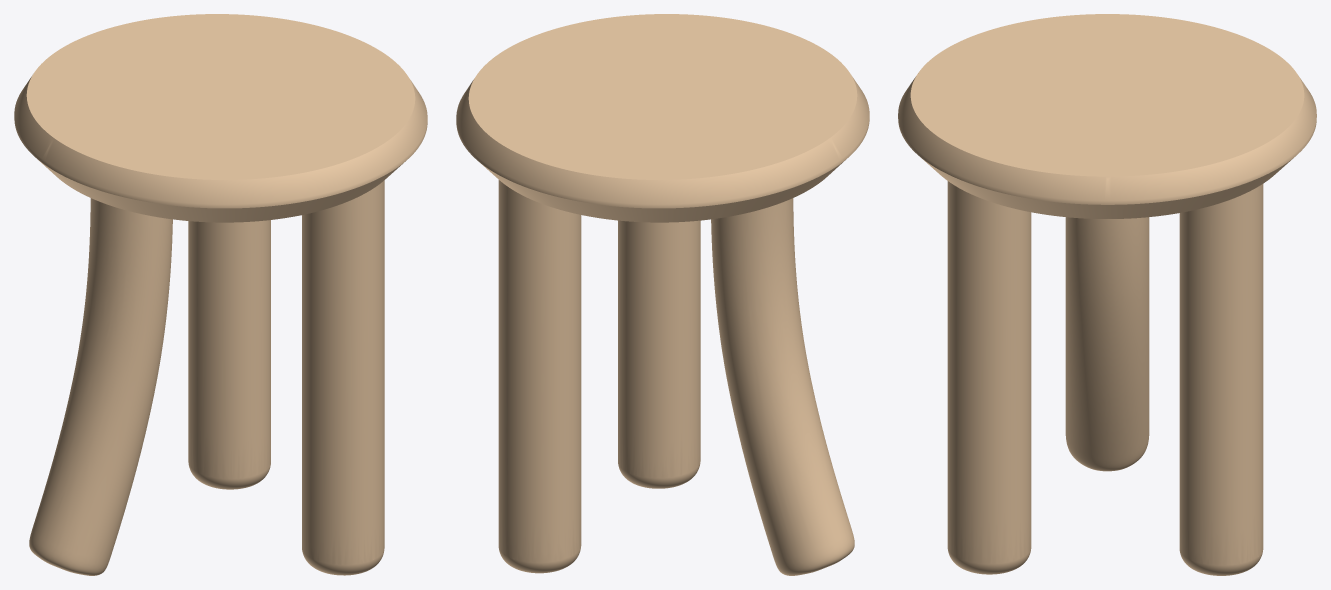
The model's file is stool.glb.
3 views of the same model, side by side, from view 1: azimuth 30°, elevation 25°; view 2: azimuth 150°, elevation 25°; view 3: azimuth 270°, elevation 25° (orthographic).
Parts seen in each view (by area): view 1: stool; view 2: stool; view 3: stool.
Boxes of the visible parts, x1,y1,x2,y2 form: stool: [14, 14, 427, 575]; stool: [456, 14, 869, 575]; stool: [898, 14, 1316, 575].
Size of the model in its own units: 0.8675 by 1 by 0.8679.
